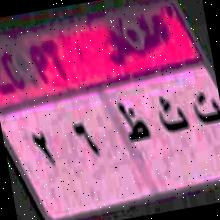2: (29, 124, 60, 178)
6: (70, 112, 101, 166)
Thaa: (114, 94, 154, 158)
taa: (189, 85, 220, 134)
thaa: (153, 90, 197, 151)
